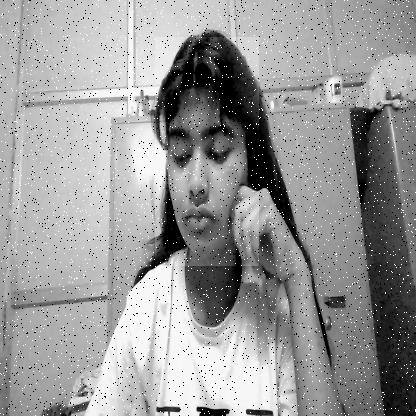Normal: (155, 37, 259, 266)
